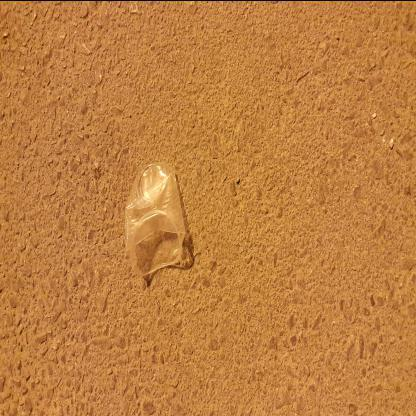plastik: (162, 230, 280, 294)
